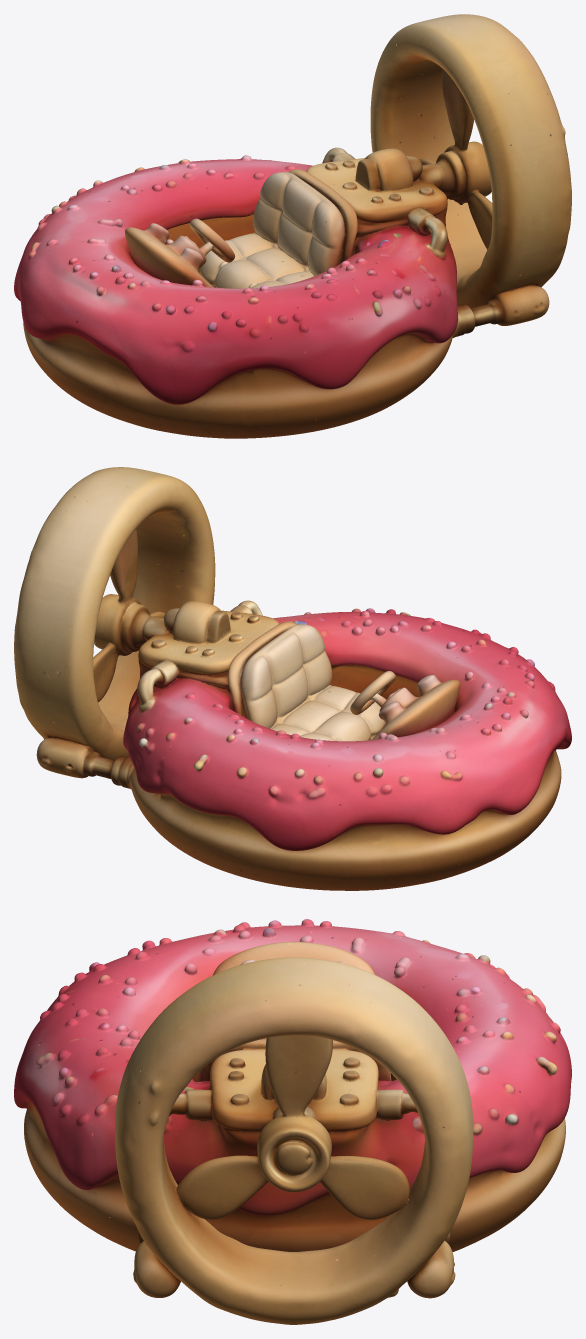
File: ride-bumper-cars-donut.glb
3 renders of one model, top to bottom at view 1: azimuth 30°, elevation 25°; view 2: azimuth 150°, elevation 25°; view 3: azimuth 270°, elevation 25°, orthographic. The views are drawn at different scales.
Parts seen in each view (by area): view 1: tripo_node_fb64d021-b876-482a-ba4a-6b6e0bdad114; view 2: tripo_node_fb64d021-b876-482a-ba4a-6b6e0bdad114; view 3: tripo_node_fb64d021-b876-482a-ba4a-6b6e0bdad114.
Boxes of the visible parts, x1=… form: tripo_node_fb64d021-b876-482a-ba4a-6b6e0bdad114: x1=14, y1=14, x2=571, y2=438; tripo_node_fb64d021-b876-482a-ba4a-6b6e0bdad114: x1=14, y1=467, x2=571, y2=890; tripo_node_fb64d021-b876-482a-ba4a-6b6e0bdad114: x1=14, y1=919, x2=571, y2=1324.
Bounding box in the file's own units: 1 × 0.5803 × 0.8181.
Materials: 1 (1 with a texture image).
